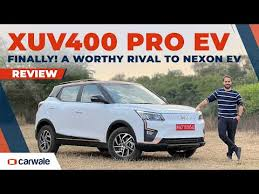XUV 400: (33, 79, 207, 162)
